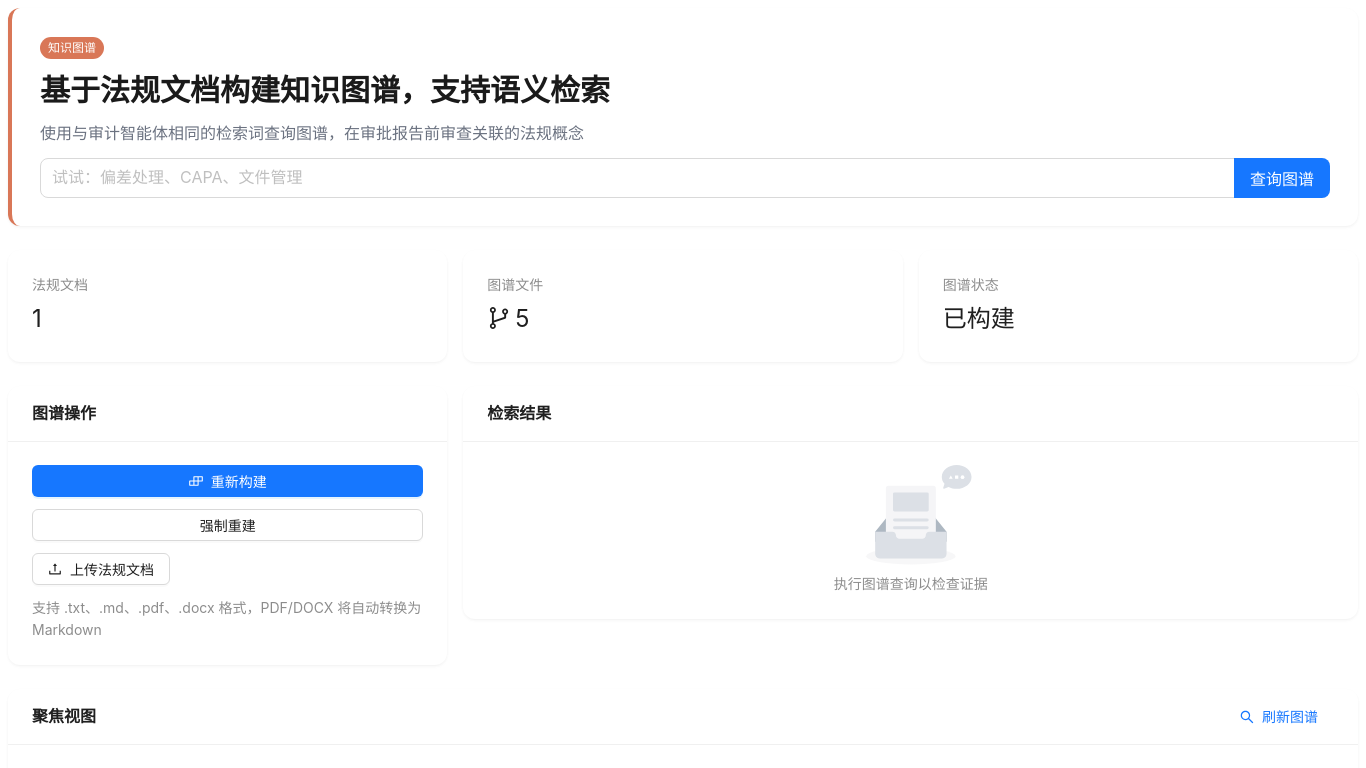
it: KnowledgeGraphPage coverage gaps › build polling updates logs and reloads on completion
Check: the text "重新构建" is shown, box [211,471,267,491]
Click the button "重新构建" at (228, 481), box [32,465,423,497]
Wait 16000 ms
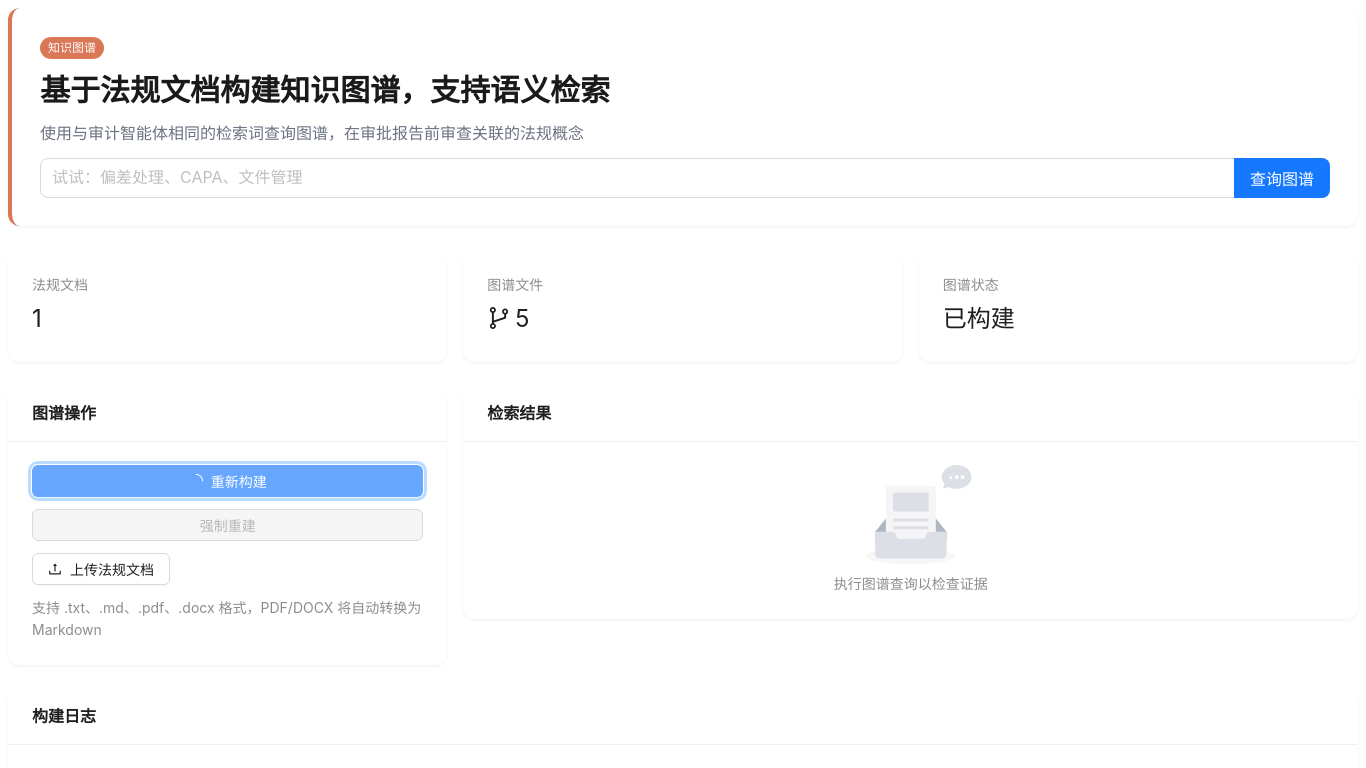
Check: the text "构建日志" is shown, box [32,706,96,726]
